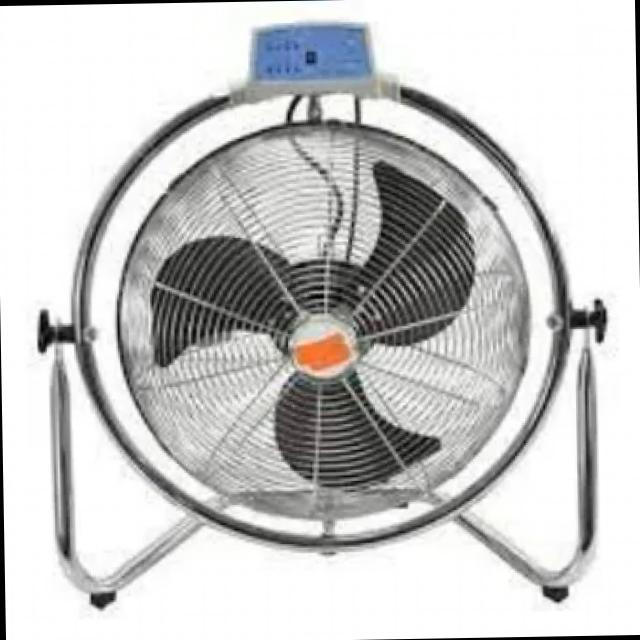fan: (19, 0, 626, 630)
